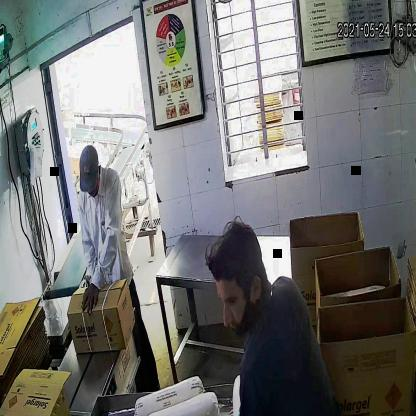no_goggles: (216, 288, 255, 312)
